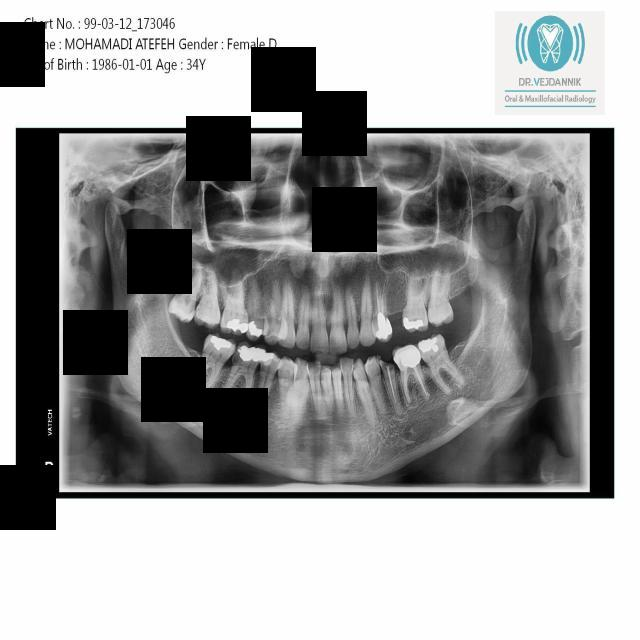74: (412, 366, 428, 399), (386, 365, 398, 405), (401, 367, 410, 400), (380, 287, 385, 313)
NucleOSS Implant: (374, 312, 395, 341), (225, 315, 250, 338), (237, 344, 264, 362), (208, 335, 232, 353), (400, 347, 420, 368), (246, 319, 263, 340), (417, 337, 438, 354), (401, 317, 424, 331), (261, 353, 275, 366), (431, 343, 440, 353)
Sterngold Implant: (375, 355, 396, 372), (233, 346, 241, 365), (190, 300, 196, 315), (441, 338, 447, 352), (196, 303, 203, 313)
Zimmer Implant: (390, 342, 423, 373)
